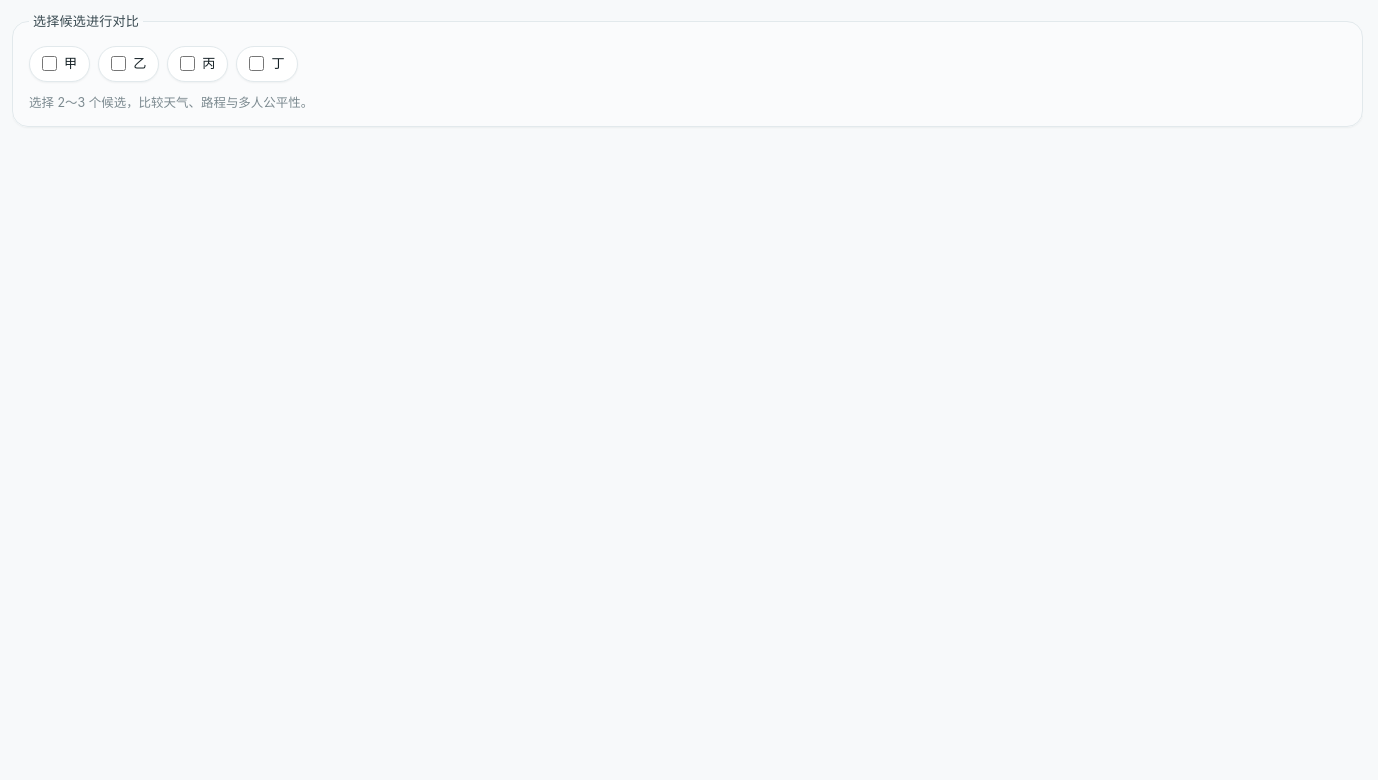
CandidateComparison › disables unselected candidates once three are already selected
Click the checkbox labelled "甲": (50,64) [42,56,57,71]
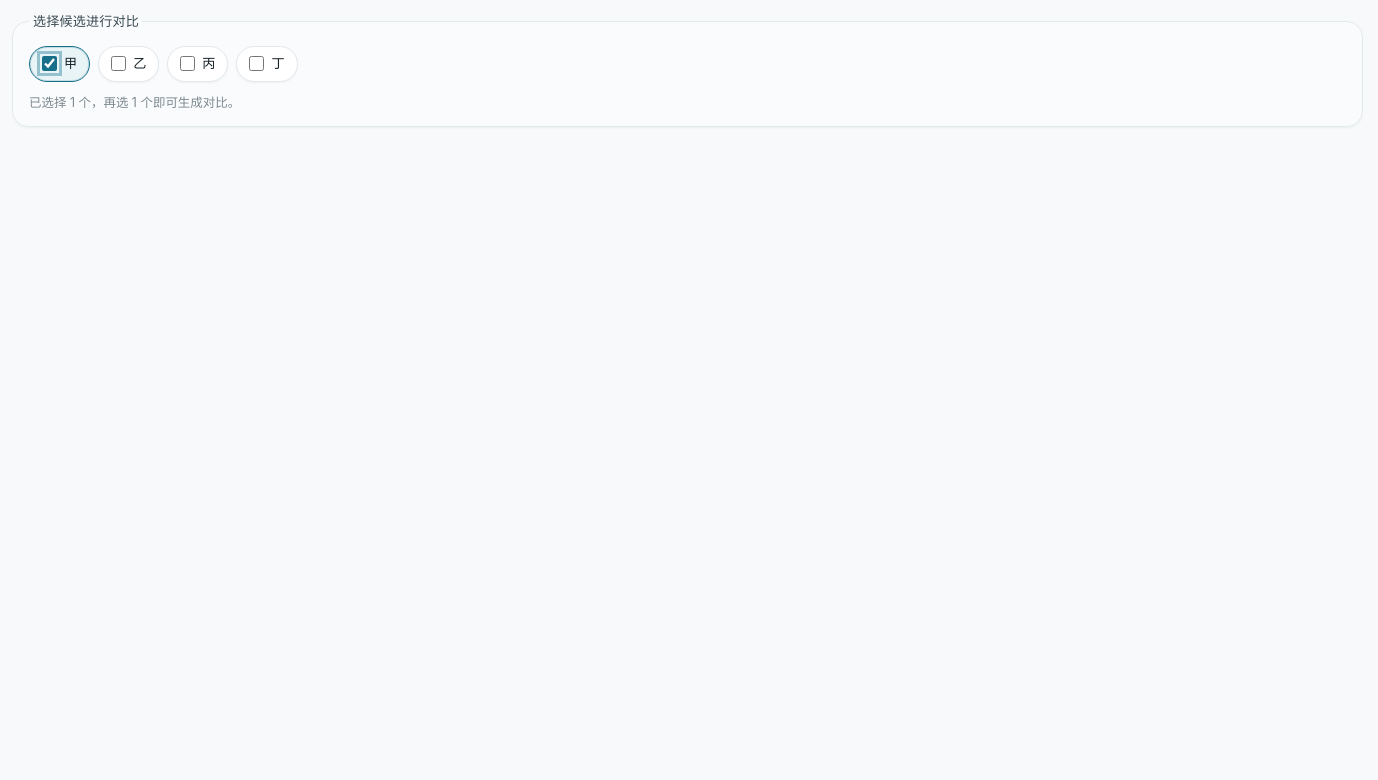
Click the checkbox labelled "乙": (119,64) [111,56,126,71]
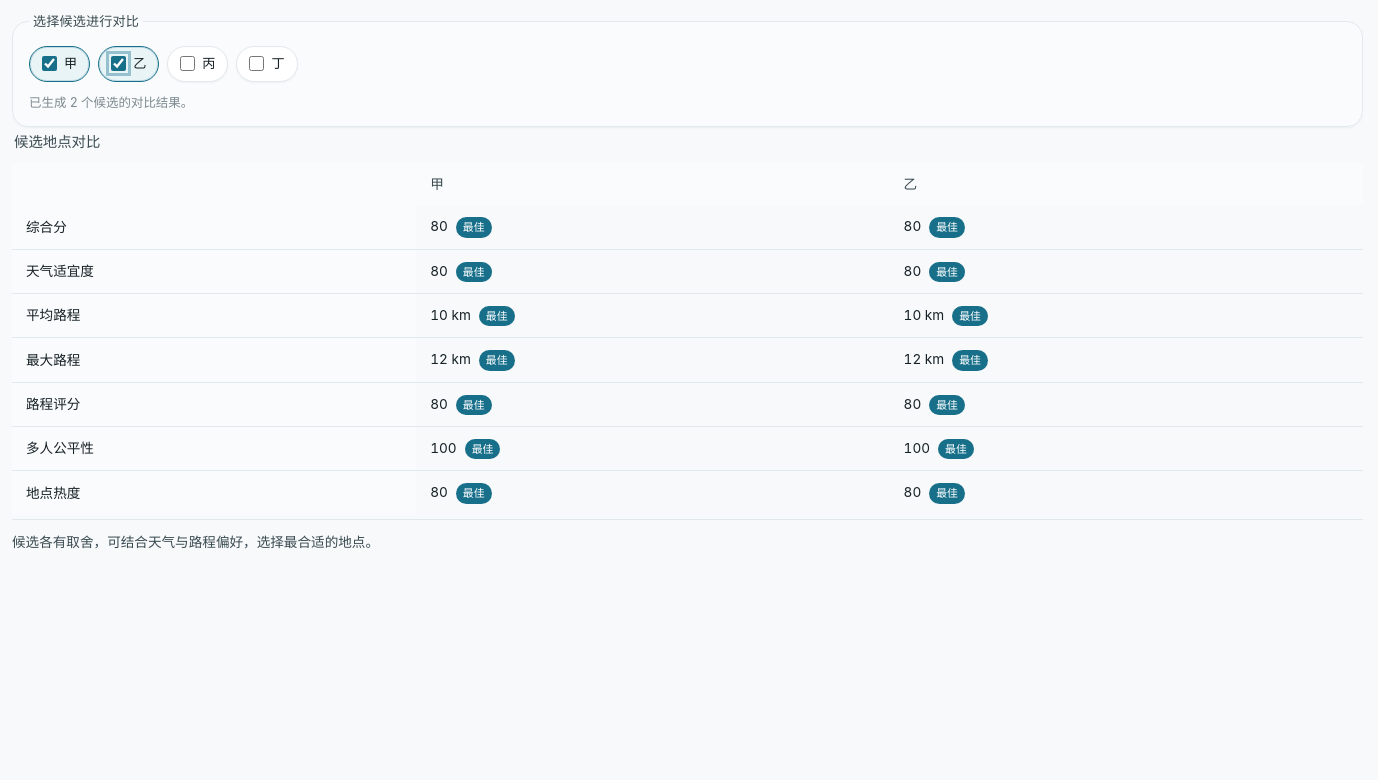
Click the checkbox labelled "丙": (188,64) [180,56,195,71]
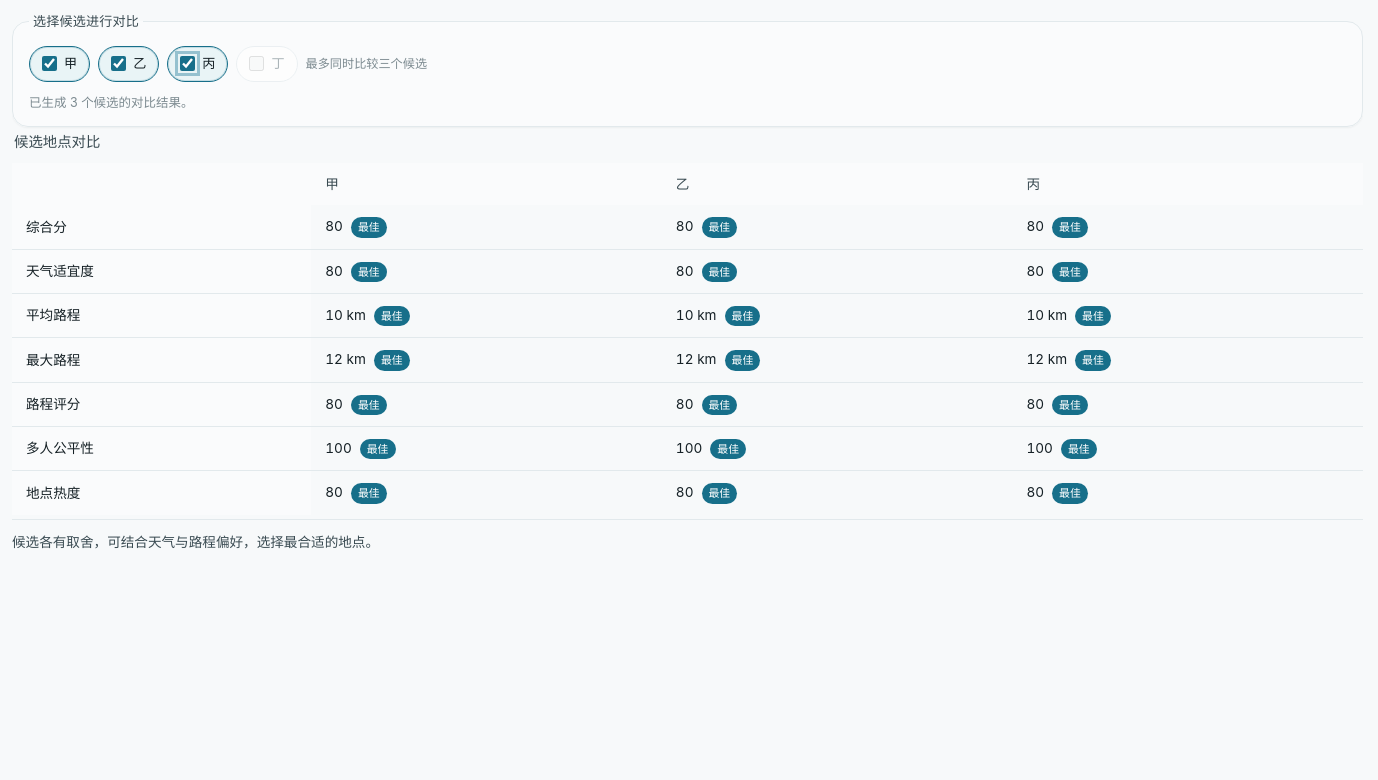
Expected: the checkbox labelled "甲" is enabled, [42,56,57,71]
Expected: the checkbox labelled "丁" is disabled, [249,56,264,71]
